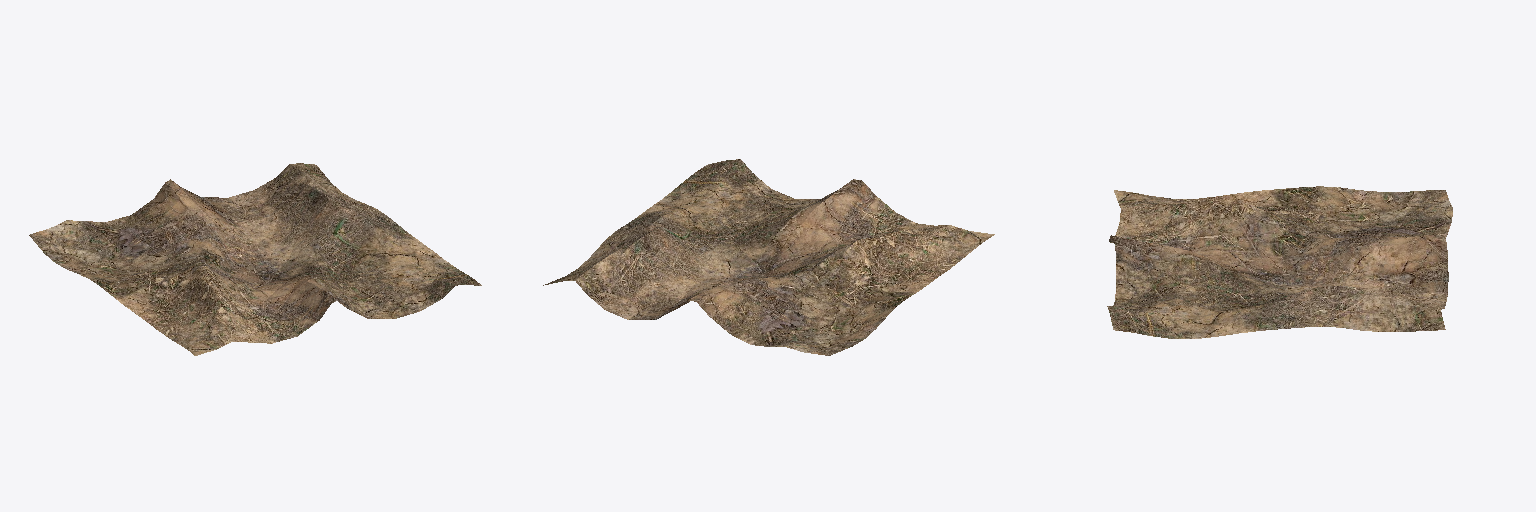
3 renders of one model, left to right at view 1: azimuth 30°, elevation 25°; view 2: azimuth 150°, elevation 25°; view 3: azimuth 270°, elevation 25°, orthographic.
Visible parts, largest first — view 1: Grid; view 2: Grid; view 3: Grid.
Boxes of the visible parts, <box> form: Grid: <box>29,163,481,355</box>; Grid: <box>543,159,994,355</box>; Grid: <box>1107,186,1452,338</box>.
Bounding box in the file's own units: 6.11 × 0.7128 × 6.14.
1 materials, 1 textured.